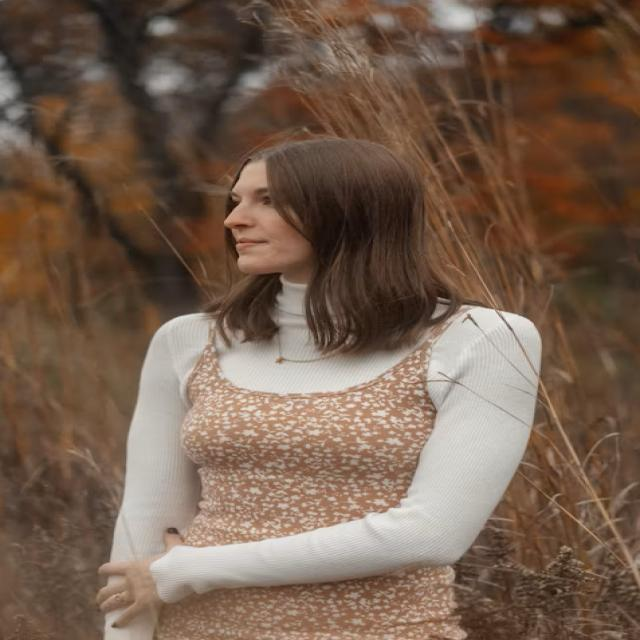Edited images: (76, 120, 563, 640)
